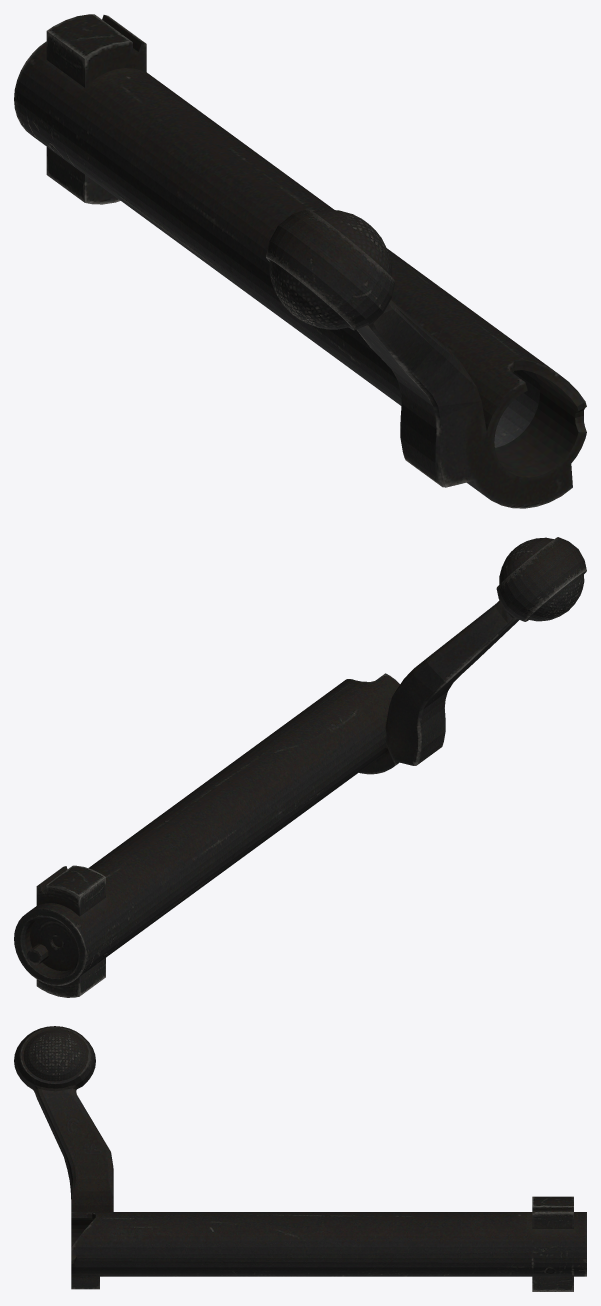
3 views of the same model, one above another, from view 1: azimuth 30°, elevation 25°; view 2: azimuth 150°, elevation 25°; view 3: azimuth 270°, elevation 25° (orthographic). The views are drawn at different scales.
Parts seen in each view (by area): view 1: TW_5bfea6e90db834001b7347f3_PZ_Import; view 2: TW_5bfea6e90db834001b7347f3_PZ_Import; view 3: TW_5bfea6e90db834001b7347f3_PZ_Import.
Part boxes in pixels (x1,y1,x2,y2): TW_5bfea6e90db834001b7347f3_PZ_Import: (14, 14, 586, 508); TW_5bfea6e90db834001b7347f3_PZ_Import: (14, 537, 586, 997); TW_5bfea6e90db834001b7347f3_PZ_Import: (14, 1026, 586, 1291).
Bounding box in the file's own units: 0.0317 × 0.0885 × 0.0338.
1 material, 1 textured.
